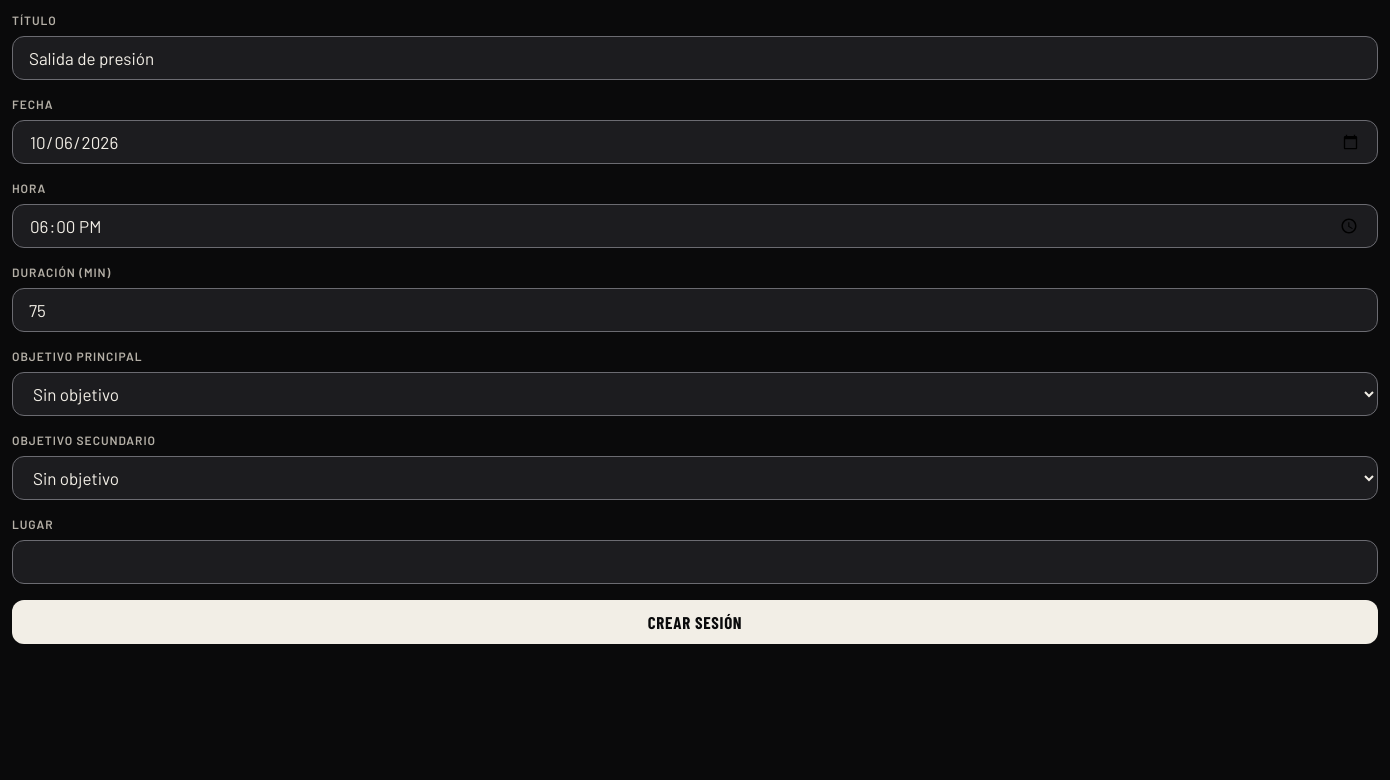
Test: PracticeForm · con una plantilla › si falla, lo dice y deja volver a intentarlo
The image size is (1390, 780).
Step 1. Click the button "Crear sesión" → (695, 622), box left=12, top=600, right=1378, bottom=644
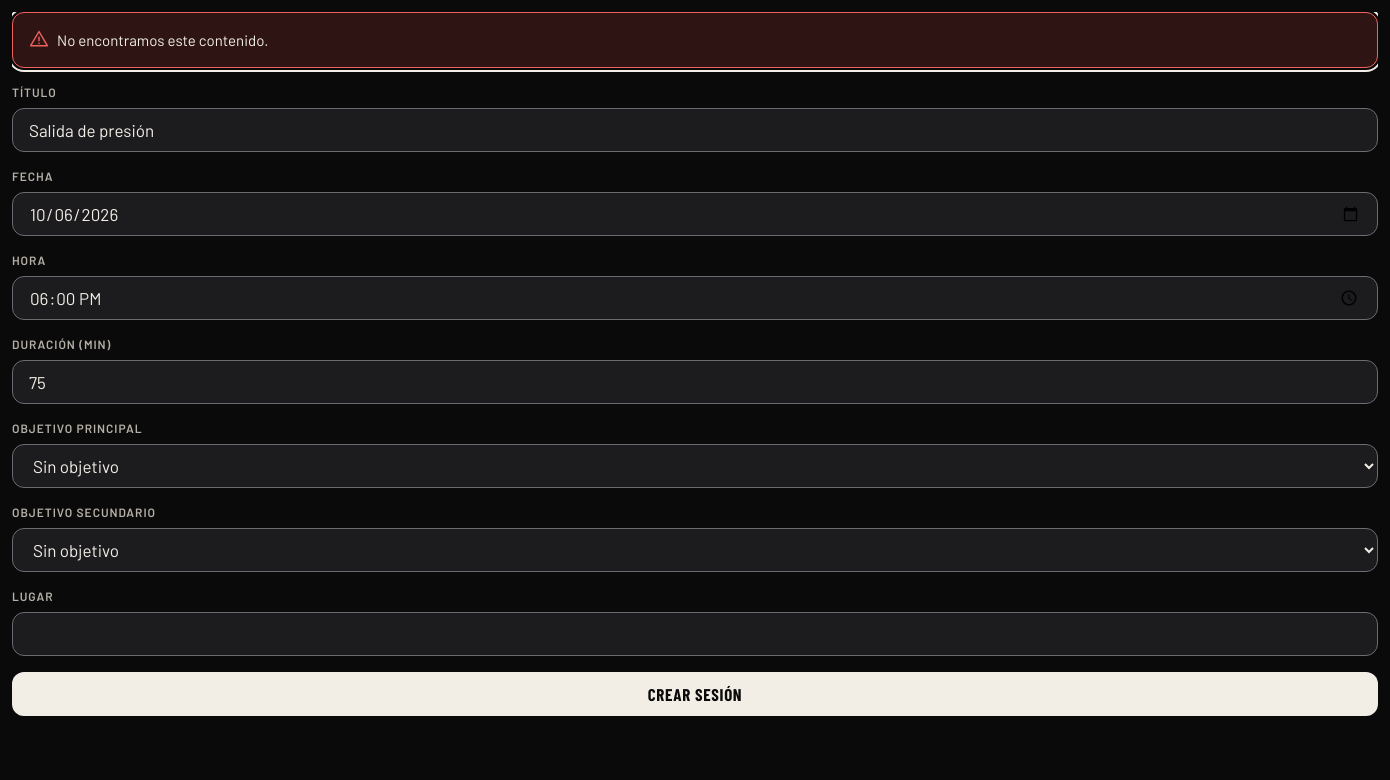
Expected: the button "Crear sesión" is enabled, left=12, top=672, right=1378, bottom=716
Expected: the message reads "No encontramos este contenido.", left=57, top=31, right=268, bottom=49
